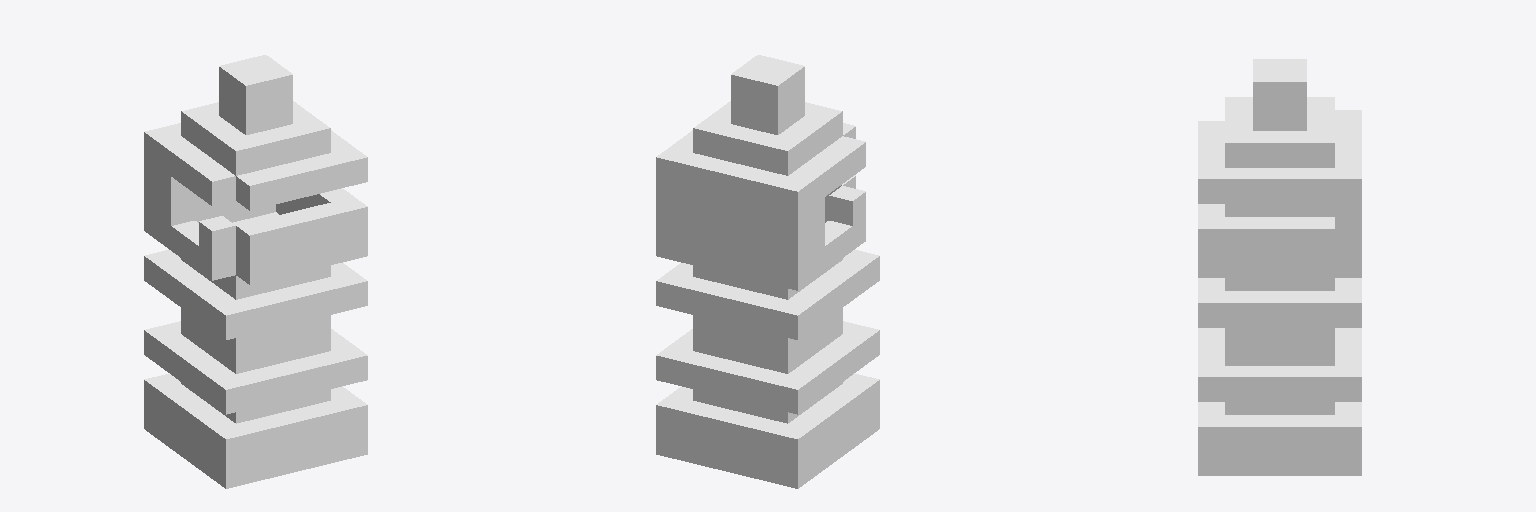
File: AlfilB.obj
The picture shows the model from 3 angles: view 1: azimuth 30°, elevation 25°; view 2: azimuth 150°, elevation 25°; view 3: azimuth 270°, elevation 25°; orthographic projection.
Parts seen in each view (by area): view 1: object 1; view 2: object 1; view 3: object 1.
Part boxes in pixels (bbox=[...]): object 1: bbox=[144, 55, 367, 488]; object 1: bbox=[656, 55, 879, 488]; object 1: bbox=[1198, 59, 1361, 475].
Bounding box in the file's own units: 0.6 × 1.5 × 0.6.